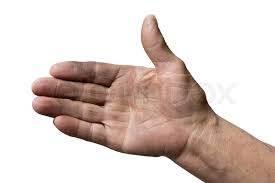hand: (24, 18, 213, 165)
